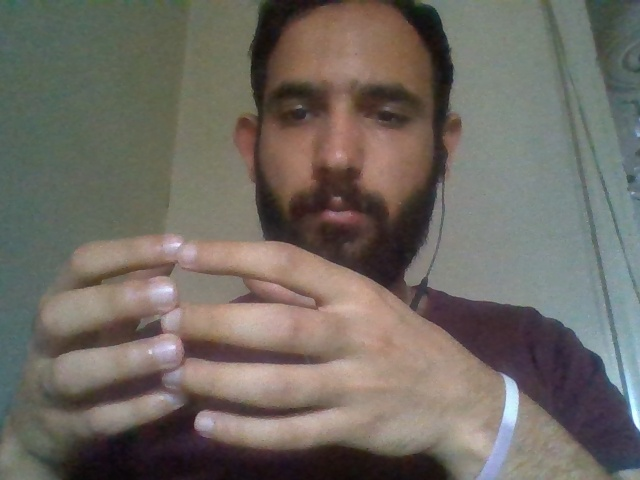Story: (14, 206, 458, 480)
